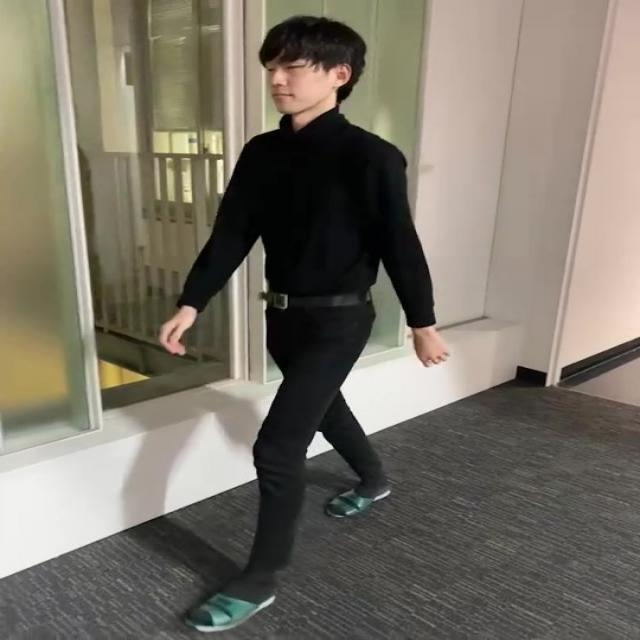direk: (155, 18, 453, 636)
